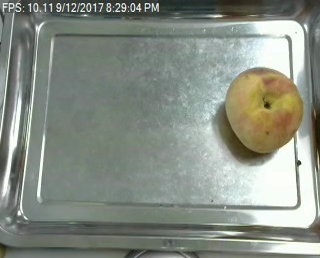Peach: (223, 66, 304, 154)
